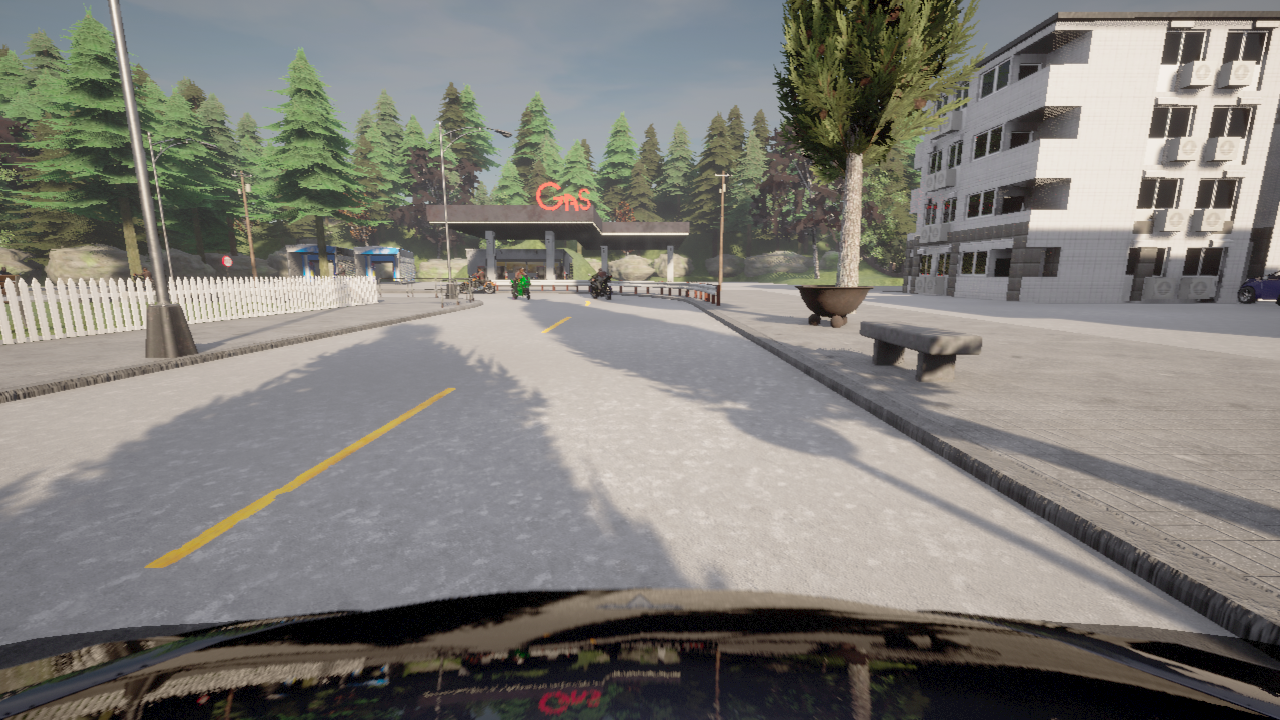cyclist: (0, 588, 1279, 719), (1238, 270, 1279, 303), (459, 273, 495, 293), (588, 273, 614, 299), (510, 275, 534, 299), (125, 275, 154, 290), (533, 271, 569, 279), (1276, 294, 1279, 305), (334, 273, 335, 275), (19, 273, 20, 274)
